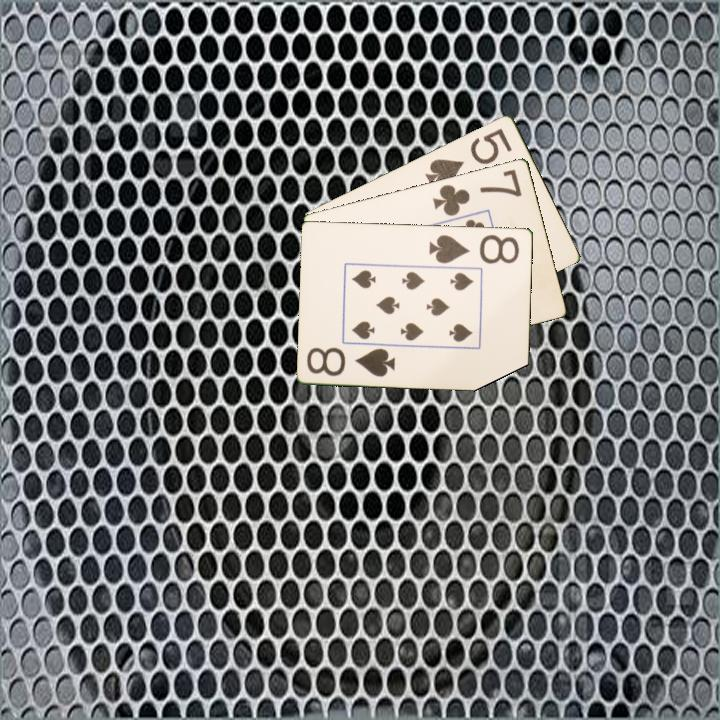5s: (421, 124, 515, 190)
7c: (429, 165, 525, 219)
8s: (303, 343, 398, 380), (426, 231, 522, 266)
